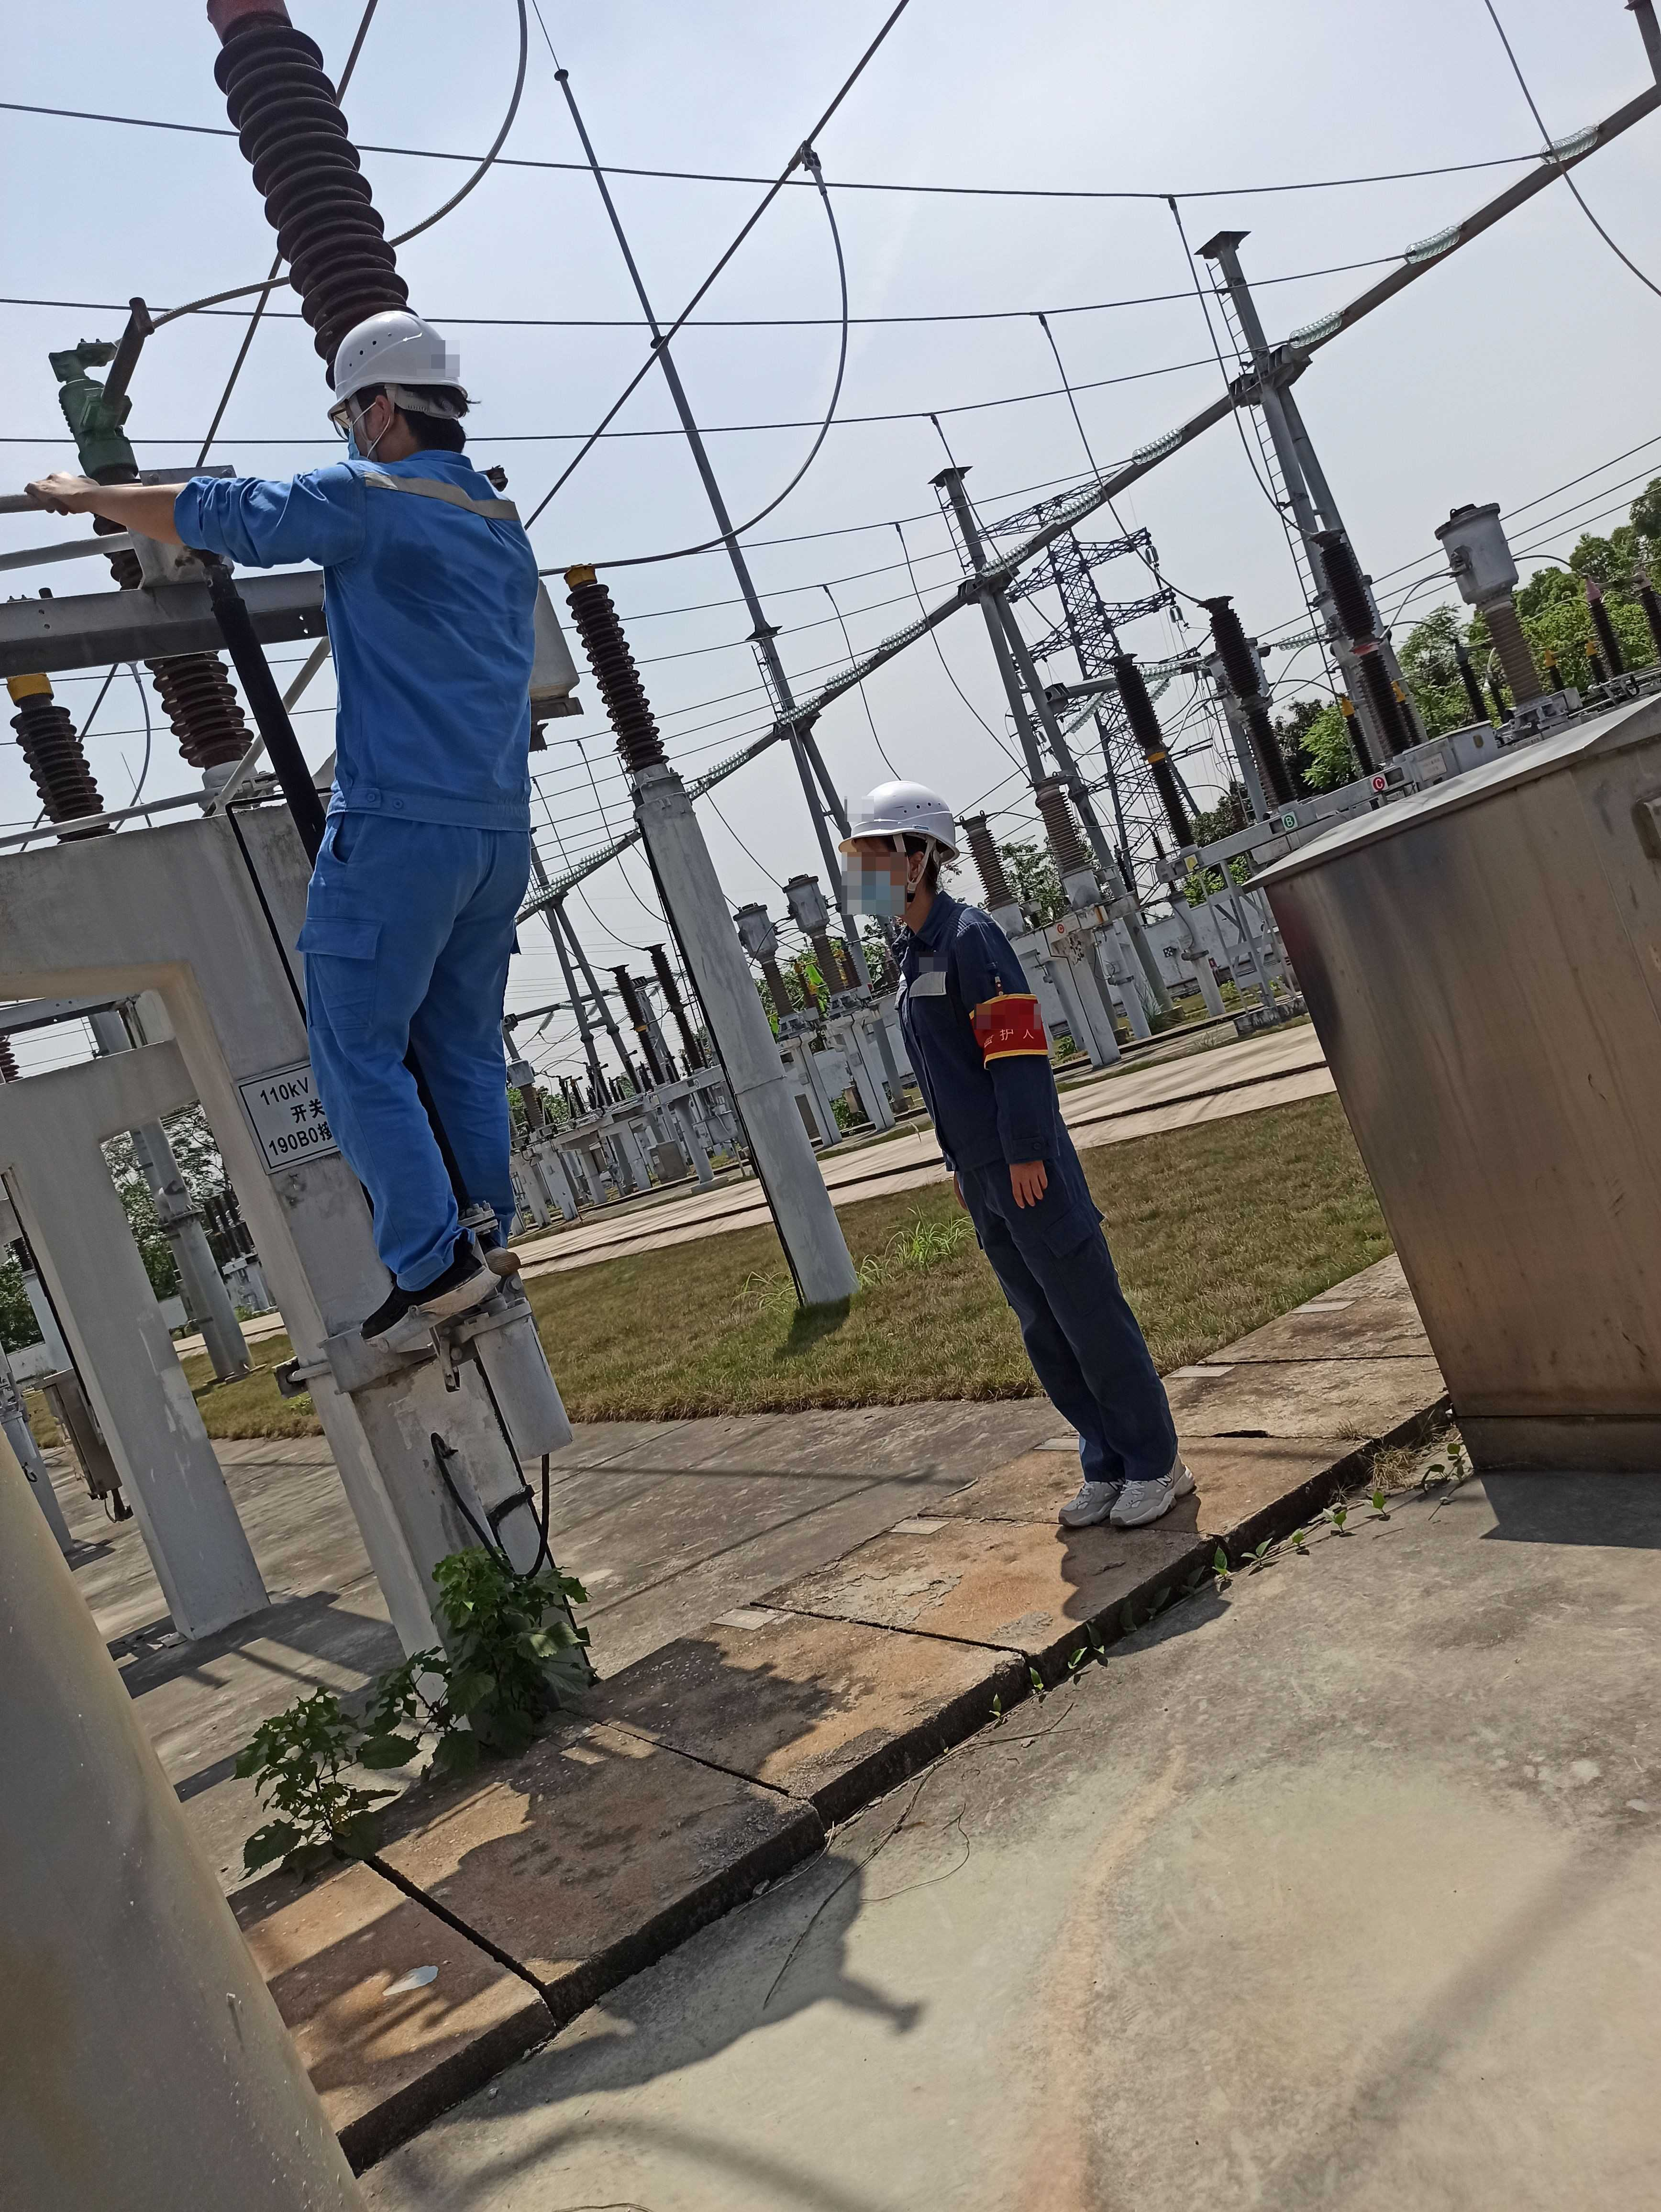downsuit: (298, 848, 527, 1272), (974, 1188, 1174, 1483)
upsuit: (185, 447, 539, 806), (885, 907, 1063, 1157)
wrongtop: (45, 461, 215, 576)
